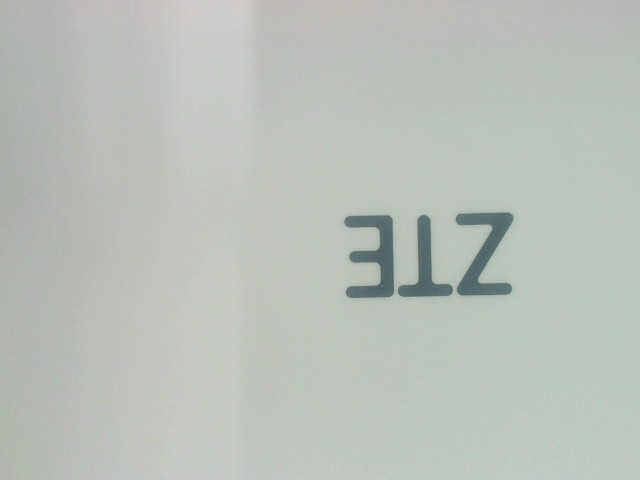AN_ZTELarge: (328, 201, 552, 303)
